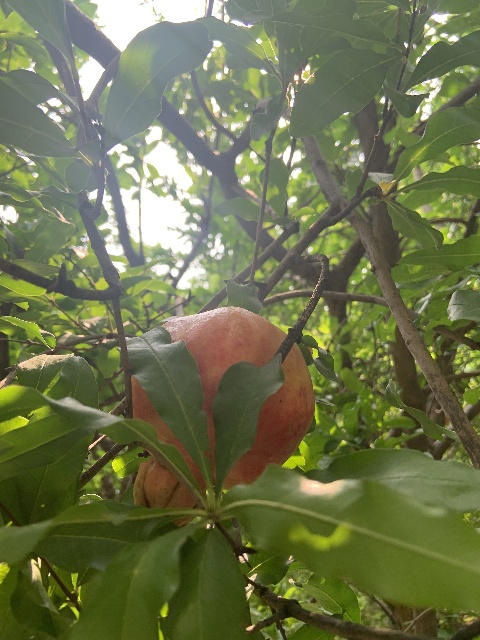ripe: (132, 306, 315, 525)
